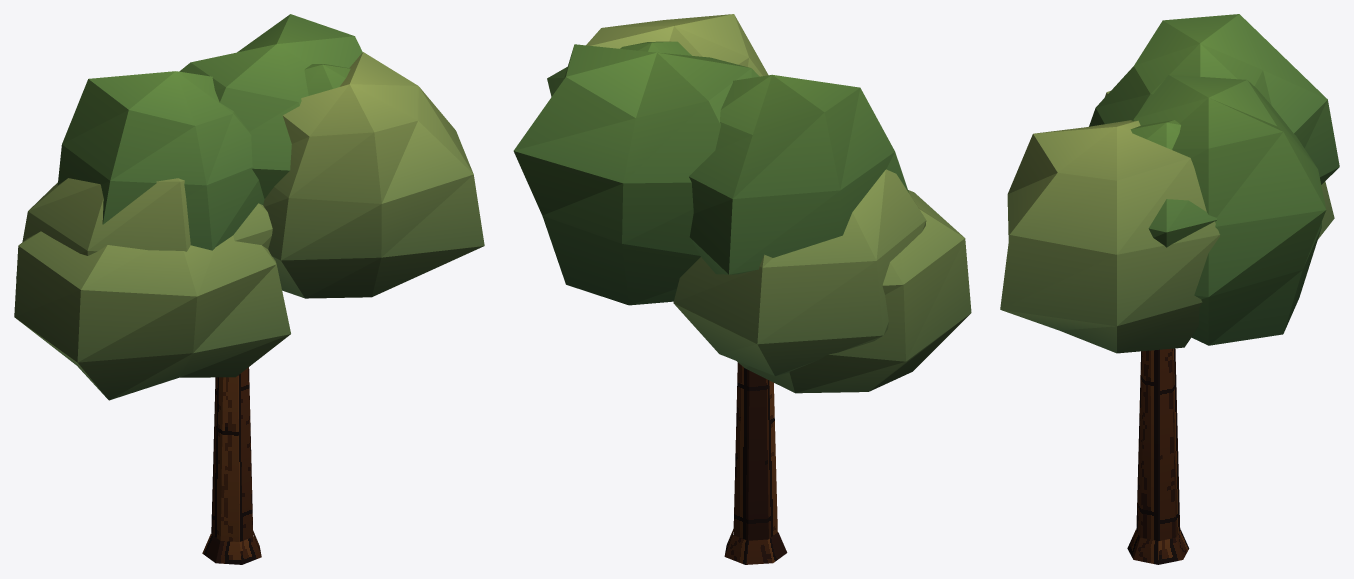
Rendered from oak_1_lowpoly.glb.
3 renders of one model, left to right at view 1: azimuth 30°, elevation 25°; view 2: azimuth 150°, elevation 25°; view 3: azimuth 270°, elevation 25°, orthographic. The views are drawn at different scales.
Visible parts, largest first — view 1: oak_1_lowpoly; view 2: oak_1_lowpoly; view 3: oak_1_lowpoly.
Part boxes in pixels (x1,y1,x2,y2): oak_1_lowpoly: (14,14,484,564); oak_1_lowpoly: (513,14,971,564); oak_1_lowpoly: (1000,14,1339,564).
Size of the model in its own units: 5.31 by 6.12 by 3.85.
2 materials, 1 textured.
